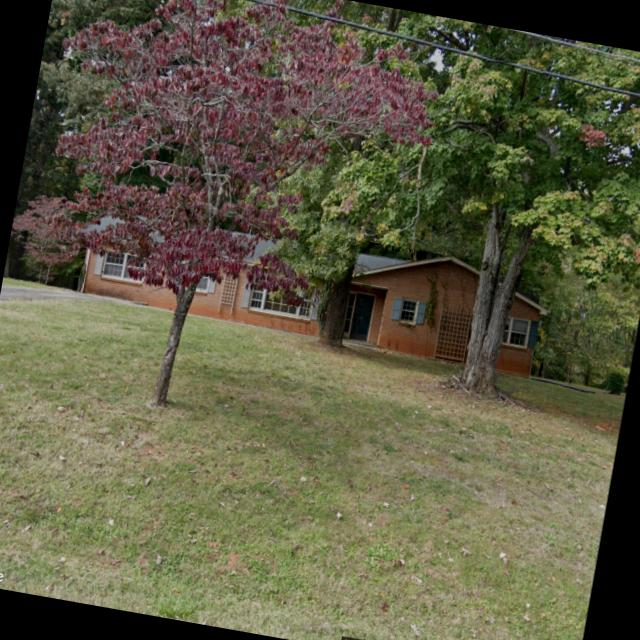House: (71, 192, 558, 376)
